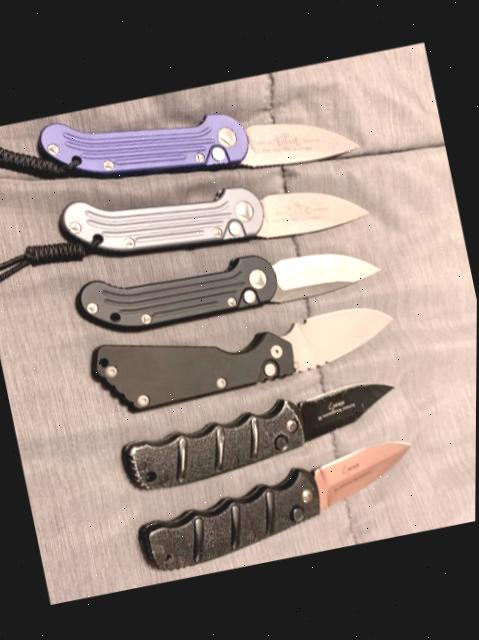pocket-knife: (27, 53, 367, 224), (45, 129, 380, 293), (117, 421, 439, 591), (80, 275, 410, 431), (114, 358, 415, 508), (68, 216, 392, 352)
